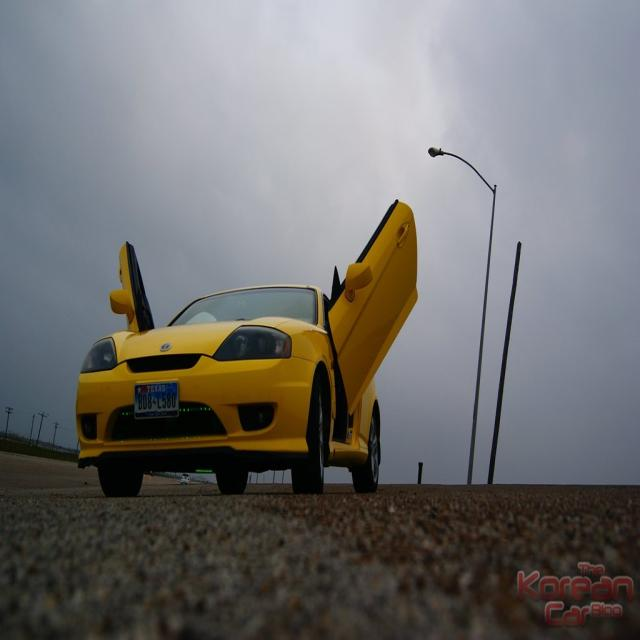car: (74, 198, 417, 498), (182, 475, 188, 483)
